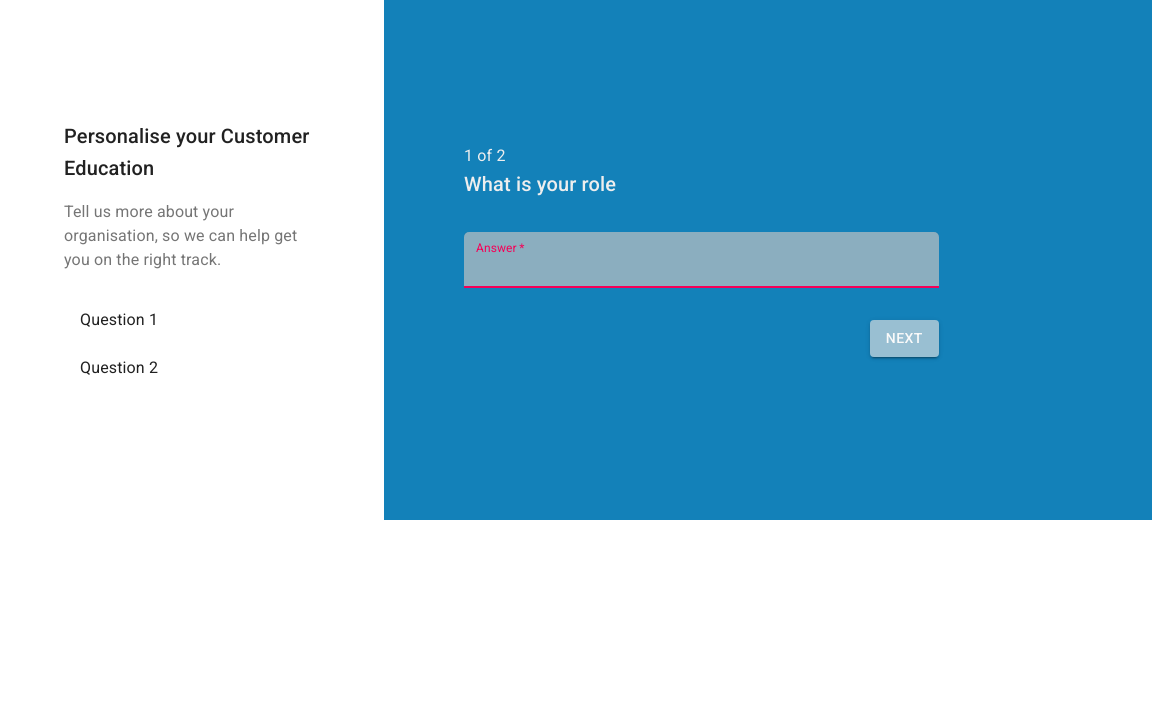
it: AmbitionSetting tests › When all questions and answers render properly
This screenshot has width=1152, height=720.
Expected: the heading "What is your role" is shown, [464,172,616,196]
In the field with test id "answer": (701, 260) [464,232,939,288], type "A4"
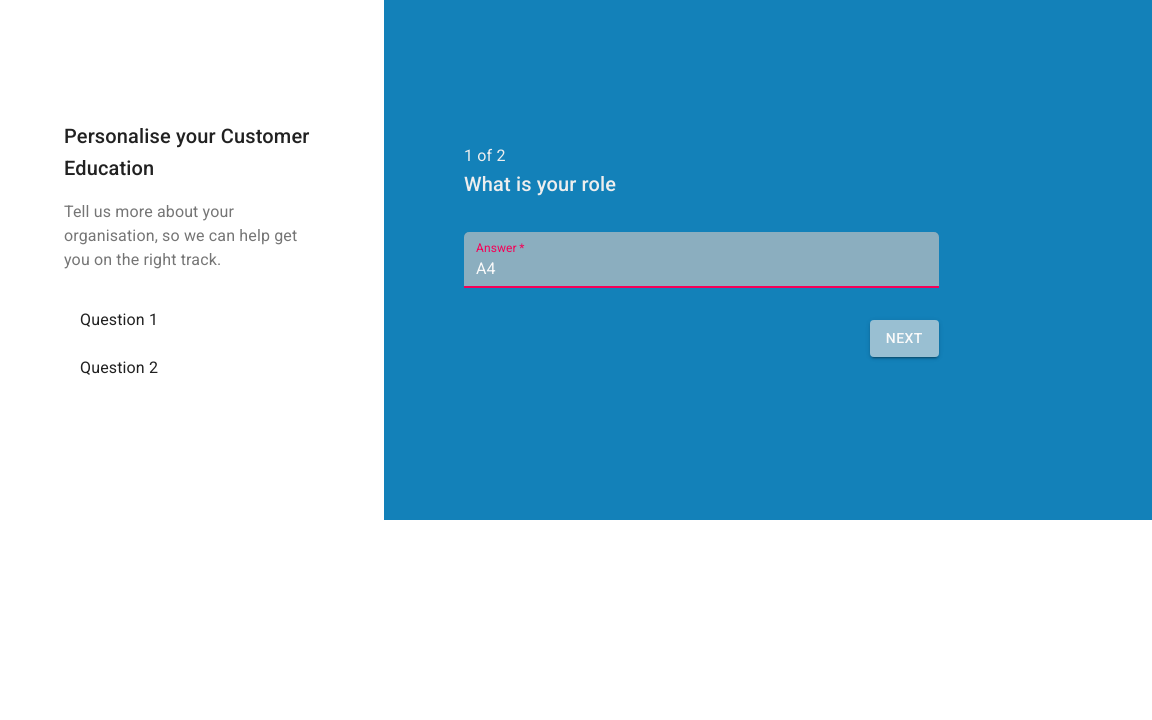
Click the button with test id "next-btn": (904, 338) [870,320,939,356]
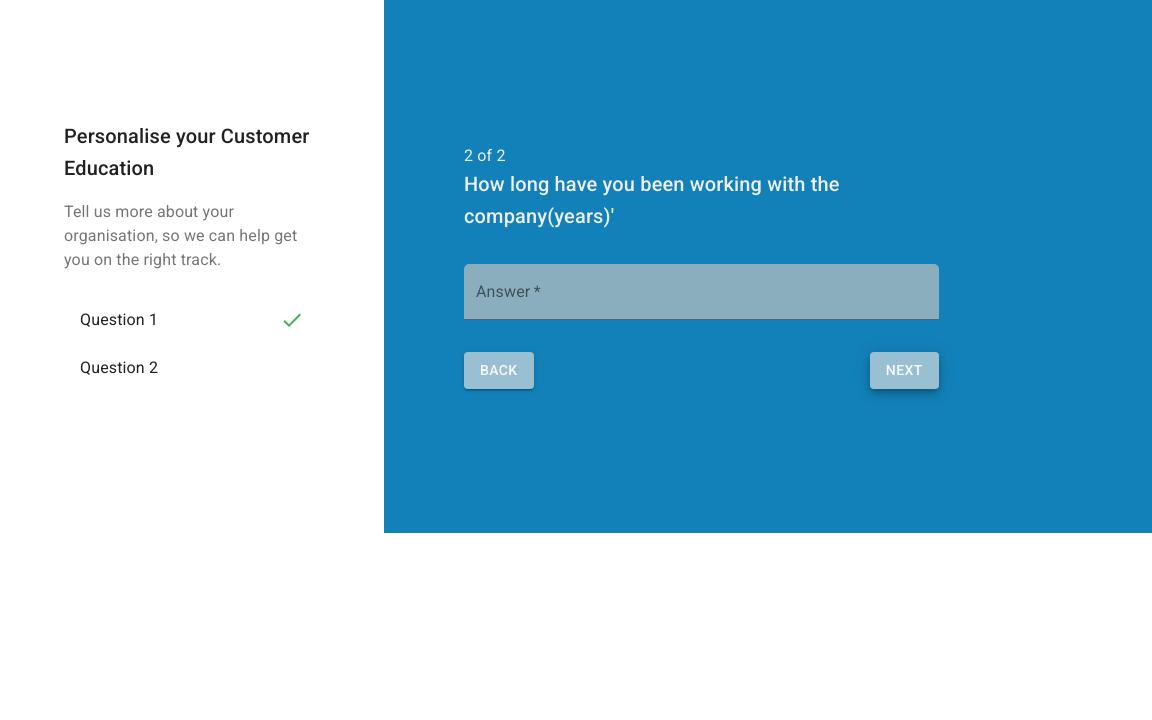
Result: the heading "How long have you been working with the company(years)'" is shown at [464,172,840,228]
In the field with test id "answer": (701, 292) [464,264,939,320], type "A4"
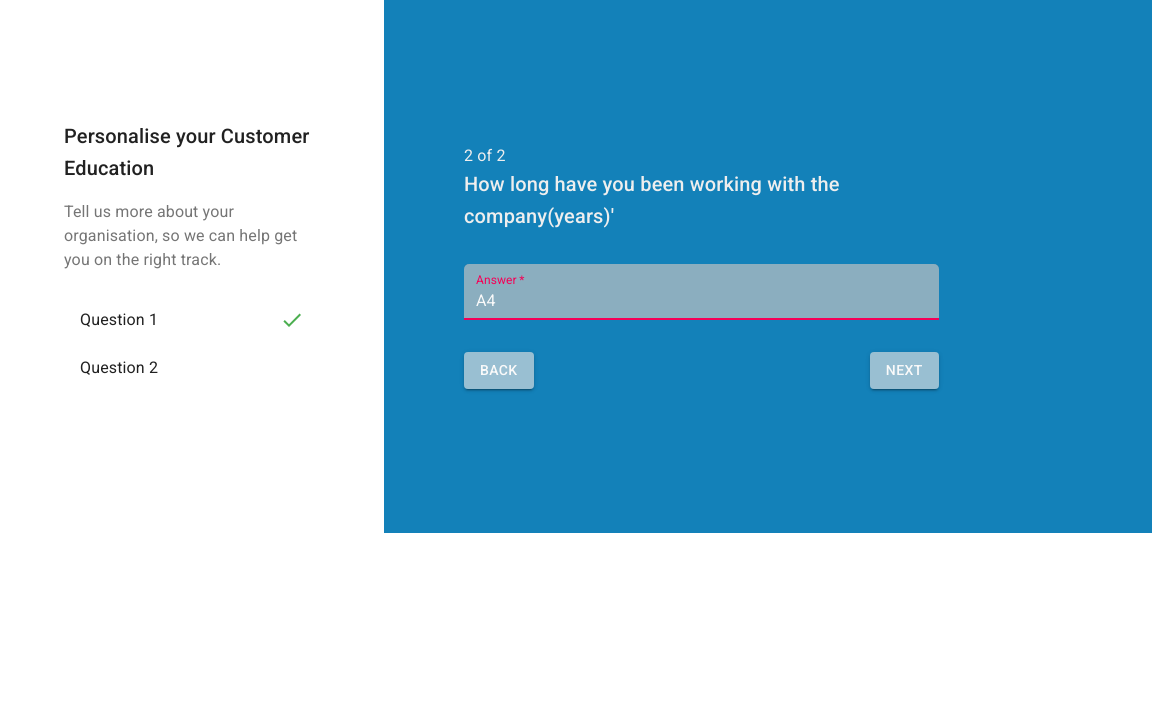
Click the button with test id "next-btn": (904, 370) [870,352,939,388]
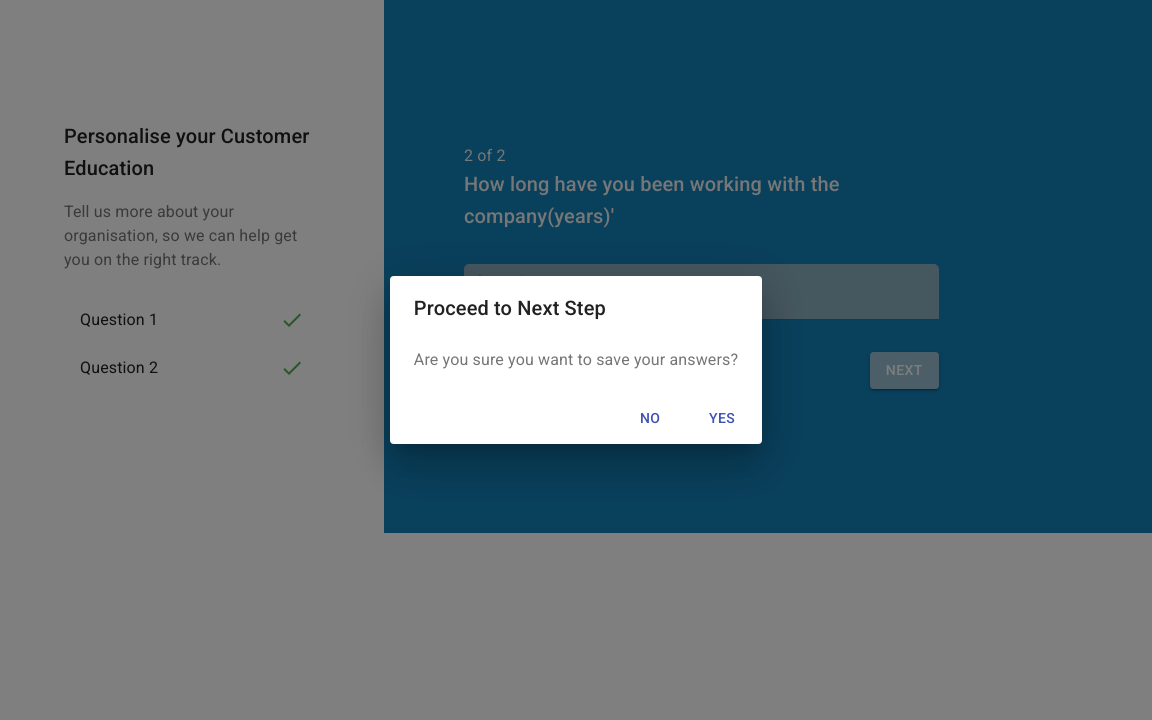
Result: the button with test id "dialog-yes" is shown at [690,400,754,436]
